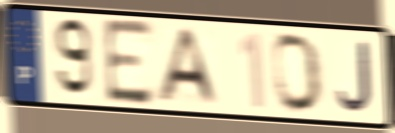1: (239, 30, 265, 110)
9: (51, 16, 95, 102)
A: (153, 26, 221, 107)
E: (101, 16, 155, 108)
J: (334, 40, 375, 115)
O: (270, 30, 325, 116)
